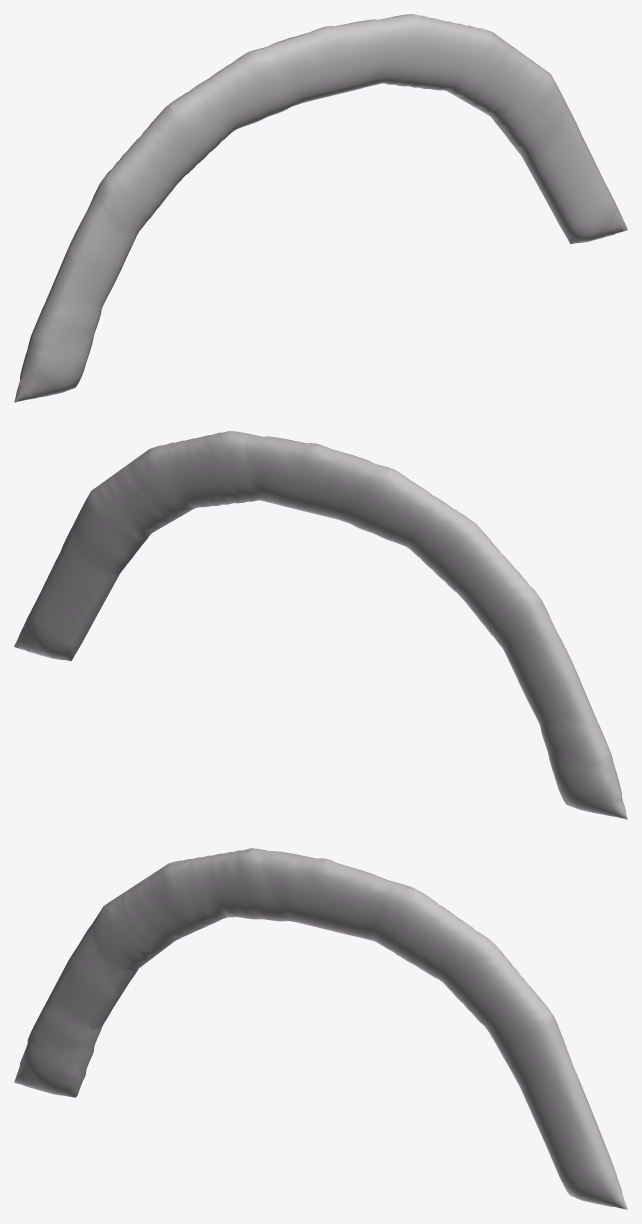
The model's file is kapion.fbx.
The picture shows the model from 3 angles, top to bottom: view 1: azimuth 30°, elevation 25°; view 2: azimuth 150°, elevation 25°; view 3: azimuth 330°, elevation 25°; orthographic projection.
Parts seen in each view (by area): view 1: root; view 2: root; view 3: root.
Boxes of the visible parts, x1,y1,x2,y2 form: root: (14,14,627,402); root: (14,431,627,819); root: (14,848,627,1209).
Bounding box in the file's own units: 0.7454 × 0.3464 × 0.0381.
Materials: 1 (1 with a texture image).
